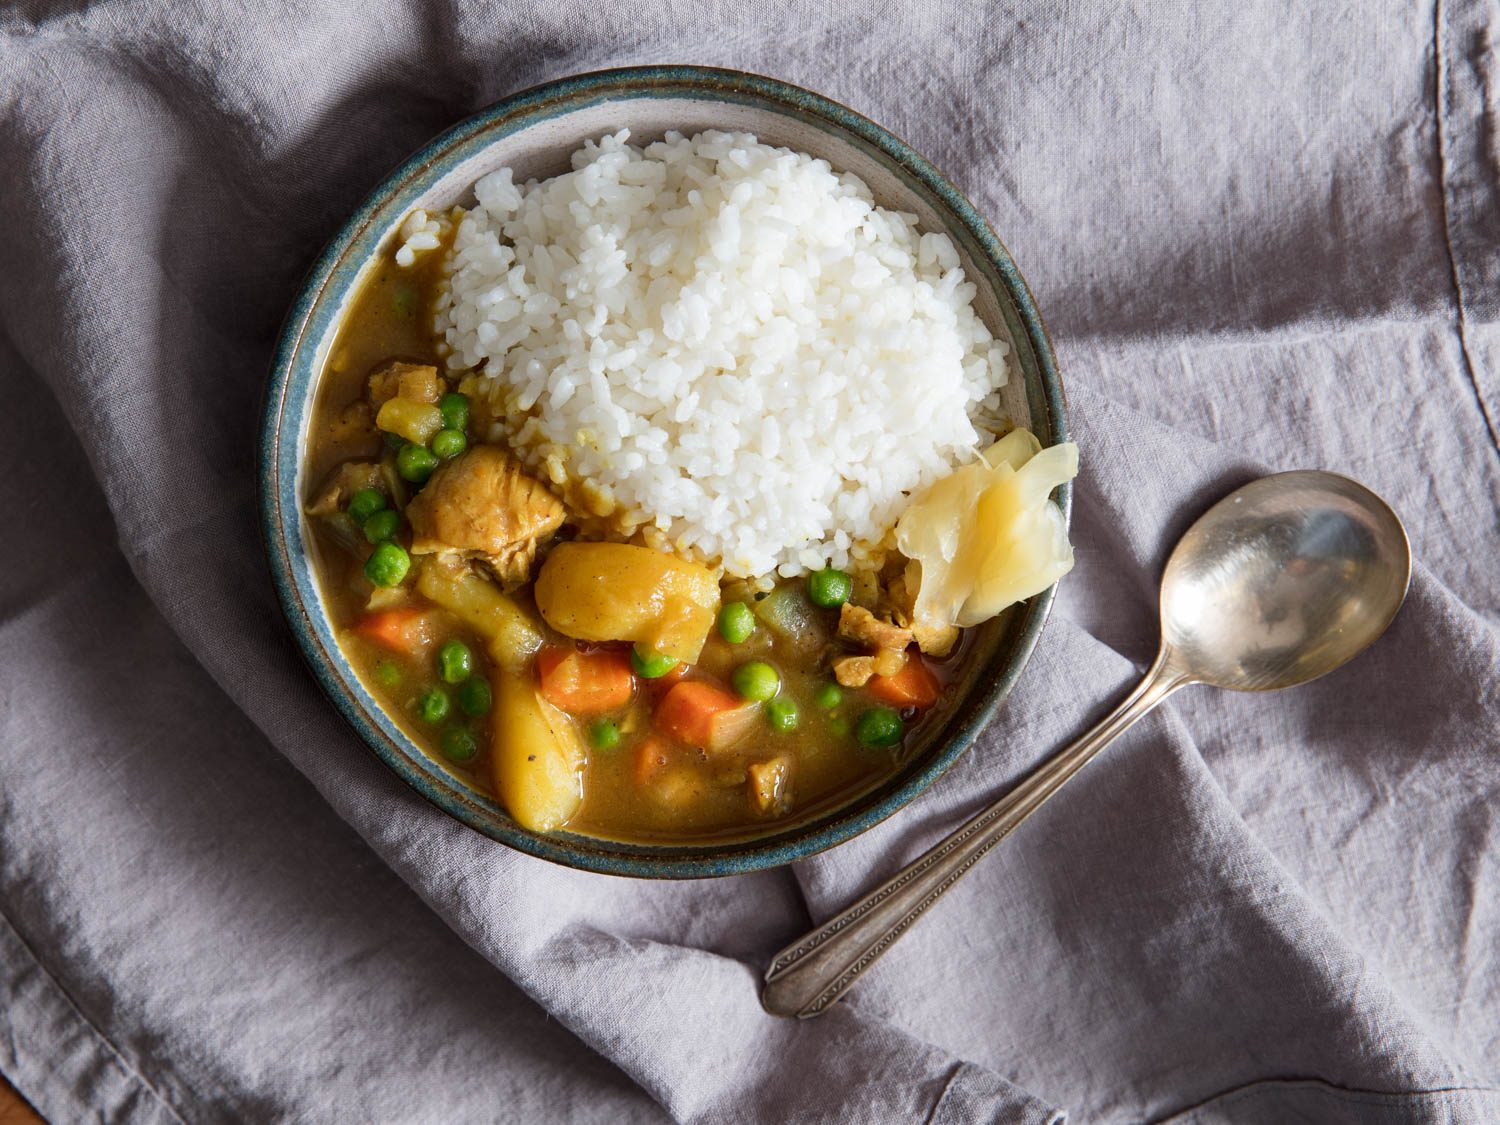curry: (335, 392, 985, 870)
rice: (416, 150, 1069, 548)
